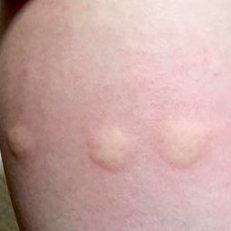Mosquito: (155, 113, 212, 172), (90, 128, 135, 170), (4, 127, 41, 159)
